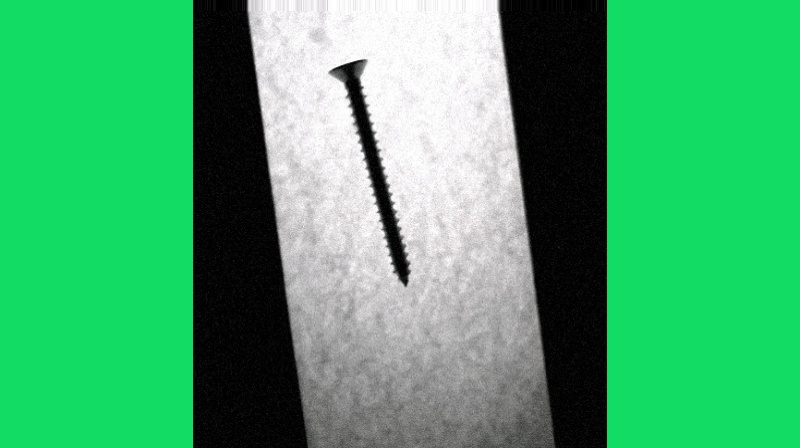S002: (323, 55, 411, 292)
